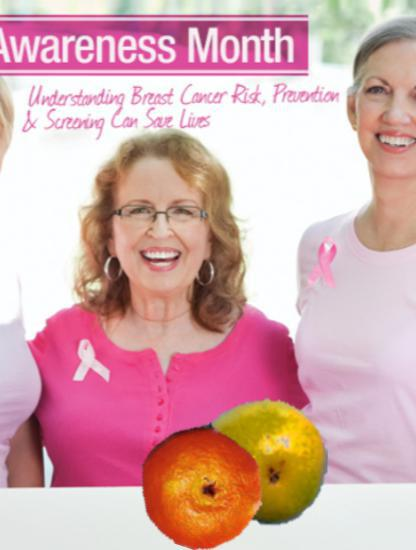Clementine: (138, 422, 266, 550)
Maracuja: (189, 392, 328, 531)
